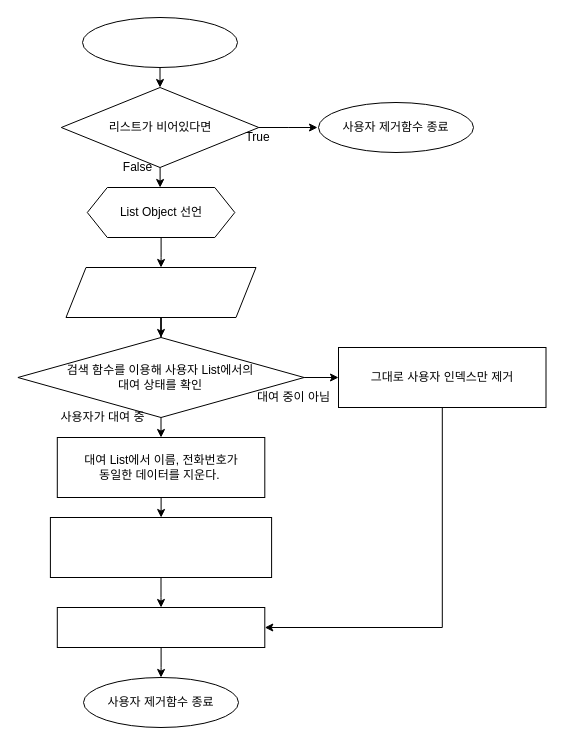
Some shapes in this 564 by 745 pixel diagram are drawn without their labels. The shapes that lost their labels are listed below. From the top down, each one's centre as x and y in pixels, then its label:
At [160,42]: "사용자 제거함수 호출".
At [160,292]: "제거할 데이터의 이름을 입력".
At [160,547]: "동시에 사용자의 비디오 index 값을 가져와 고유 인덱스를 가지는 비디오의 대여상태 초기화".
At [160,627]: "자동 저장함수 실행".
